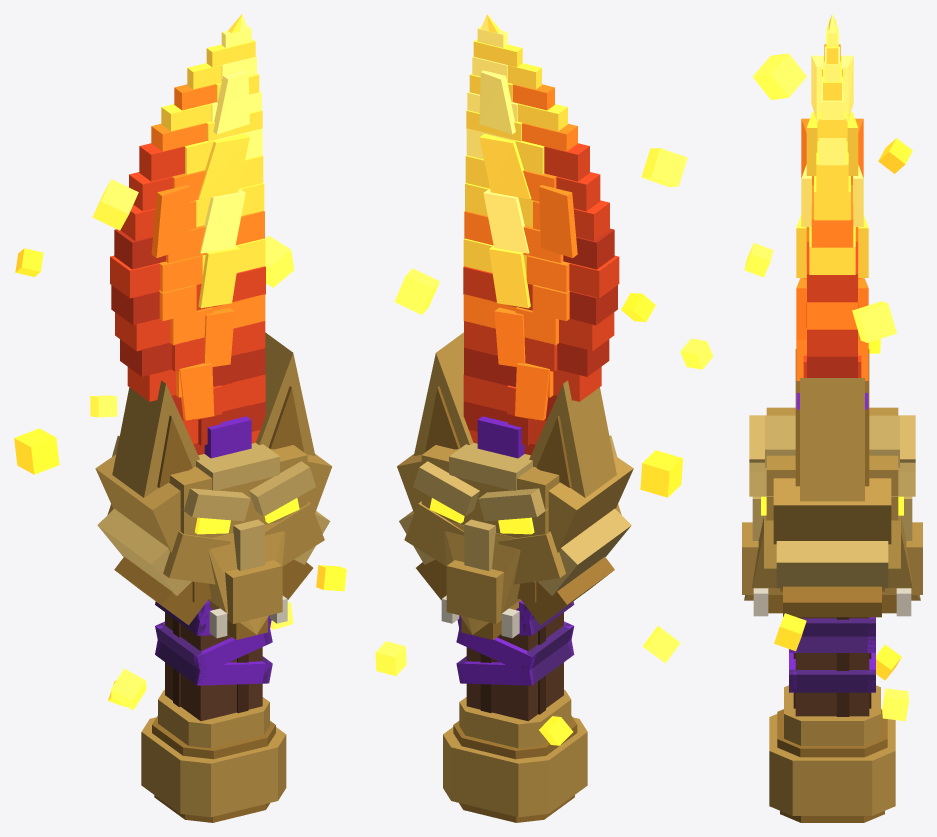
File: ember_wilf_fangs.glb
3 renders of one model, left to right at view 1: azimuth 30°, elevation 25°; view 2: azimuth 150°, elevation 25°; view 3: azimuth 270°, elevation 25°, orthographic. The views are drawn at different scales.
Visible parts, largest first — view 1: pommel_block_01, head_ear_01, pommel_collar_01, head_ruff_upper_01, grip_core_01, head_ear_02, head_muzzle_01, head_skull_01, head_ruff_mid_01, head_crown_01, blade_facet_09, head_snout_01 (+61 smaller); view 2: pommel_block_01, head_ear_01, head_ruff_upper_01, grip_core_01, pommel_collar_01, head_ear_02, head_muzzle_01, head_ruff_mid_01, head_skull_01, head_crown_01, blade_facet_10, head_snout_01 (+62 smaller); view 3: pommel_block_01, head_ear_02, head_ruff_upper_02, head_ruff_mid_02, pommel_collar_01, head_ruff_low_02, grip_core_01, head_skull_01, head_crown_01, head_muzzle_01, wrap_band_15, pommel_bevel_top_01 (+44 smaller).
Part boxes in pixels (x1,y1,x2,y2): pommel_block_01: [141, 717, 286, 817]; head_ear_01: [112, 380, 199, 497]; pommel_collar_01: [158, 690, 269, 748]; head_ruff_upper_01: [95, 454, 180, 552]; grip_core_01: [165, 612, 262, 721]; head_ear_02: [256, 332, 315, 455]; head_muzzle_01: [208, 560, 282, 623]; head_skull_01: [169, 445, 307, 537]; head_ruff_mid_01: [97, 508, 191, 595]; head_crown_01: [196, 442, 279, 490]; blade_facet_09: [151, 185, 190, 258]; head_snout_01: [208, 521, 285, 634]; pommel_block_01: [443, 717, 587, 817]; head_ear_01: [529, 380, 616, 497]; head_ruff_upper_01: [548, 454, 633, 552]; grip_core_01: [466, 612, 563, 721]; pommel_collar_01: [459, 690, 571, 748]; head_ear_02: [414, 332, 473, 455]; head_muzzle_01: [446, 560, 520, 623]; head_ruff_mid_01: [537, 508, 631, 595]; head_skull_01: [421, 445, 559, 537]; head_crown_01: [449, 442, 532, 490]; blade_facet_10: [539, 185, 577, 258]; head_snout_01: [443, 522, 520, 634]; pommel_block_01: [769, 714, 895, 815]; head_ear_02: [800, 378, 864, 501]; head_ruff_upper_02: [773, 478, 891, 544]; head_ruff_mid_02: [776, 541, 888, 588]; pommel_collar_01: [784, 685, 880, 745]; head_ruff_low_02: [783, 586, 881, 617]; grip_core_01: [795, 617, 869, 716]; head_skull_01: [766, 407, 898, 520]; head_crown_01: [765, 415, 899, 467]; head_muzzle_01: [742, 522, 922, 594]; wrap_band_15: [789, 669, 875, 692]; pommel_bevel_top_01: [777, 709, 887, 757].
Bounding box in the file's own units: 0.3254 × 0.84 × 0.172.
